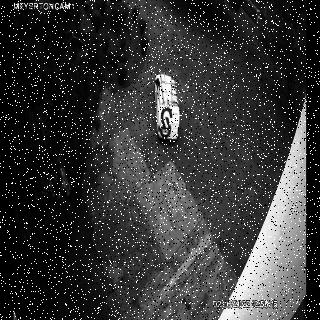car: (17, 166, 70, 243), (154, 71, 180, 142)
